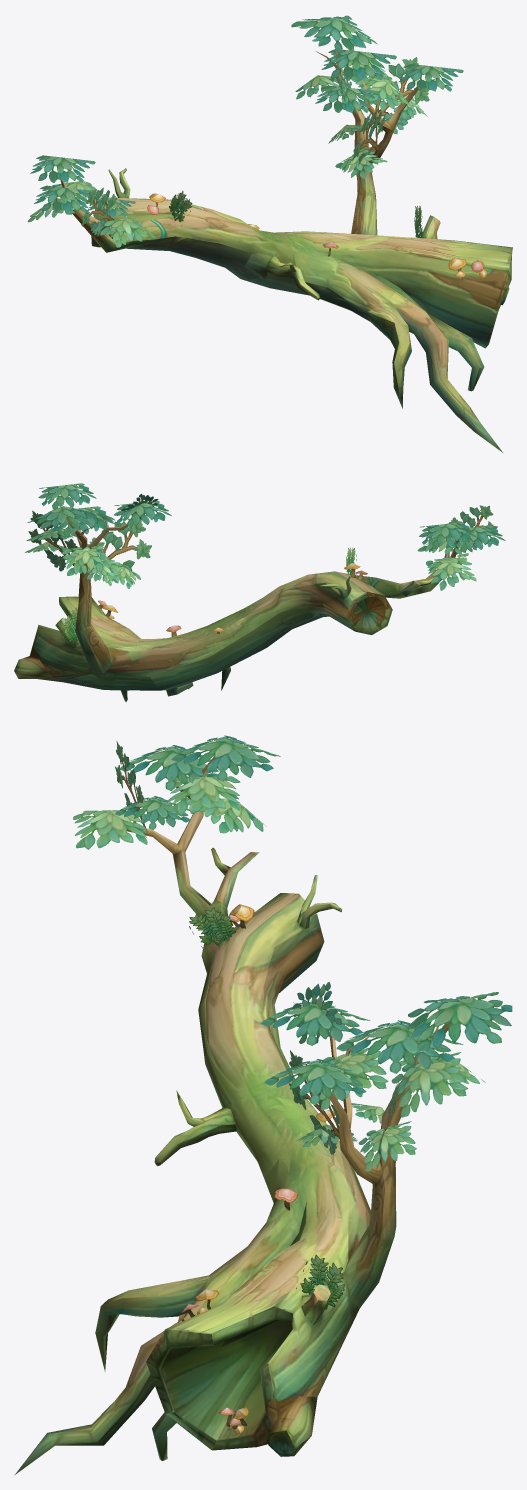
Rendered from map_shu26a.FBX.
3 views of the same model, one above another, from view 1: azimuth 30°, elevation 25°; view 2: azimuth 150°, elevation 25°; view 3: azimuth 270°, elevation 25° (orthographic). The views are drawn at different scales.
Parts seen in each view (by area): view 1: map_shu26a; view 2: map_shu26a; view 3: map_shu26a.
Part boxes in pixels (left/top/right/bottom): map_shu26a: left=27, top=15, right=512, bottom=453; map_shu26a: left=14, top=483, right=505, bottom=701; map_shu26a: left=14, top=735, right=512, bottom=1475.
Size of the model in its own units: 6.95 by 4.26 by 3.99.
1 material, 1 textured.
